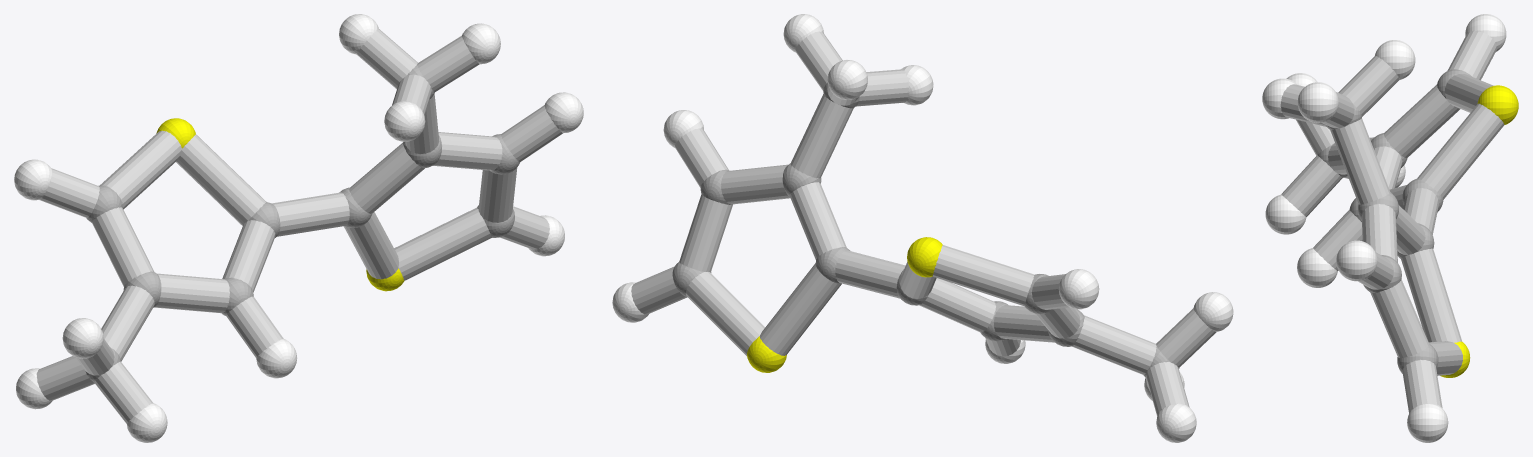
Rendered from Methylthiophene_Phi_5_Theta_70_Methylthiophene.glb.
The picture shows the model from 3 angles, left to right: view 1: azimuth 30°, elevation 25°; view 2: azimuth 150°, elevation 25°; view 3: azimuth 270°, elevation 25°; orthographic projection.
Parts seen in each view (by area): view 1: grp7965, grp3621, grp1, grp7241; view 2: grp7965, grp3621, grp1, grp7241; view 3: grp7965, grp3621, grp1, grp7241.
Boxes of the visible parts, x1=… form: grp7965: x1=36, y1=29, x2=562, y2=423; grp3621: x1=14, y1=14, x2=583, y2=442; grp1: x1=85, y1=65, x2=519, y2=382; grp7241: x1=156, y1=118, x2=404, y2=291; grp7965: x1=631, y1=31, x2=1216, y2=415; grp3621: x1=612, y1=14, x2=1233, y2=442; grp1: x1=672, y1=82, x2=1179, y2=377; grp7241: x1=747, y1=237, x2=942, y2=372; grp7965: x1=1280, y1=31, x2=1504, y2=413; grp3621: x1=1262, y1=14, x2=1506, y2=442; grp1: x1=1318, y1=69, x2=1471, y2=373; grp7241: x1=1440, y1=85, x2=1518, y2=377.
Size of the model in its own units: 9.54 by 5.17 by 3.74.
